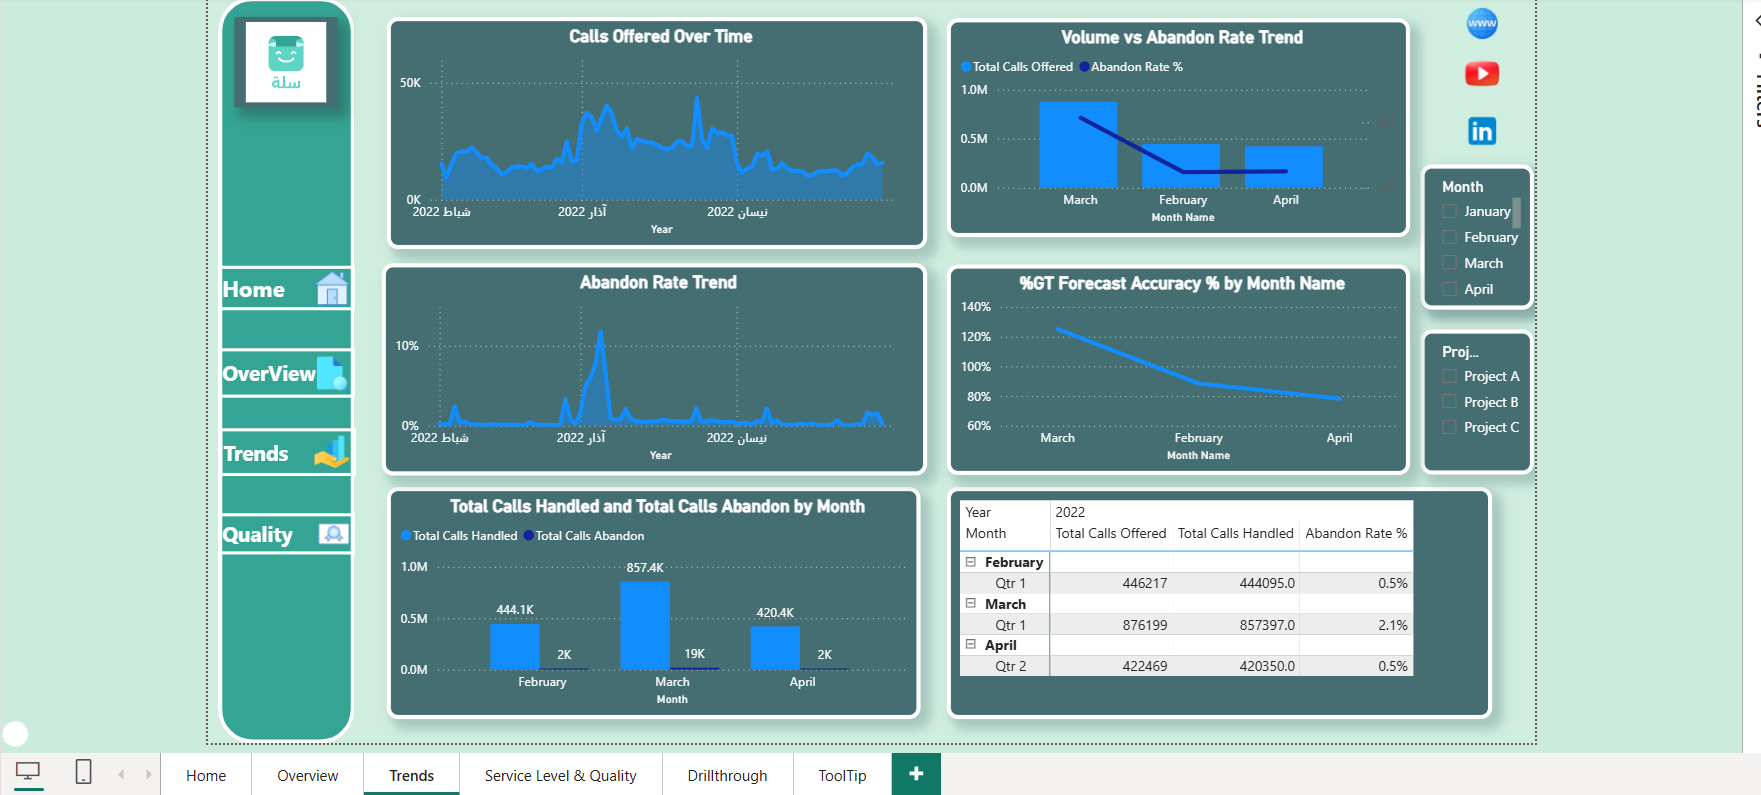

What the dashboard file says about the page in this screenshot:
{"tool":"powerbi","page":{"name":"Trends","canvas":[1280,720],"ordinal":2},"visuals":[{"type":"shape","box":[9.5,0,132,720.5],"z":0},{"type":"image","box":[25.4,19.1,100.2,87.5],"z":1000},{"type":"actionButton","box":[9.5,259.3,132,42.9],"z":2000},{"type":"actionButton","box":[9.5,338.8,132,47.7],"z":3000},{"type":"actionButton","box":[11.1,416.7,132,46.1],"z":4000},{"type":"actionButton","box":[9.5,497.9,132,39.8],"z":5000},{"type":"actionButton","box":[1199.3,52,61.8,43.9],"z":8000},{"type":"actionButton","box":[1199.3,3.3,61.8,43.9],"z":9000},{"type":"actionButton","box":[1199.3,107.3,61.8,43.9],"z":10000},{"type":"areaChart","title":"Calls Offered Over Time","fields":{"Y":["Sallah Project.Total Calls Offered"],"Category":["Sallah Project.Date.Variation.Date Hierarchy.Year","Sallah Project.Date.Variation.Date Hierarchy.Quarter","Sallah Project.Date.Variation.Date Hierarchy.Month","Sallah Project.Date.Variation.Date Hierarchy.Day"]},"box":[172.3,19.5,521.6,224.3],"z":11000},{"type":"clusteredColumnChart","fields":{"Category":["Sallah Project.Date.Variation.Date Hierarchy.Month"],"Y":["Sallah Project.Total Calls Handled","Sallah Project.Total Calls Abandon"]},"box":[172.3,472.9,515.1,224.3],"z":12000},{"type":"pivotTable","fields":{"Rows":["Sallah Project.Date.Variation.Date Hierarchy.Month","Sallah Project.Date.Variation.Date Hierarchy.Quarter"],"Columns":["Sallah Project.Date.Variation.Date Hierarchy.Year"],"Values":["Sallah Project.Total Calls Offered","Sallah Project.Total Calls Handled","Sallah Project.Abandon Rate %"]},"box":[713.4,472.9,526.5,224.3],"z":13000},{"type":"areaChart","title":"Abandon Rate Trend","fields":{"Y":["Sallah Project.Abandon Rate %"],"Category":["Sallah Project.Date.Variation.Date Hierarchy.Year","Sallah Project.Date.Variation.Date Hierarchy.Quarter","Sallah Project.Date.Variation.Date Hierarchy.Month","Sallah Project.Date.Variation.Date Hierarchy.Day"]},"box":[167.4,256.8,526.5,204.8],"z":14000},{"type":"slicer","fields":{"Values":["Sallah Project.Date.Variation.Date Hierarchy.Year"]},"box":[1170.7,162.2,109.8,140],"z":15000},{"type":"slicer","fields":{"Values":["Sallah Project.Date.Variation.Date Hierarchy.Month"]},"box":[1170.2,162.2,109.8,140],"z":16000},{"type":"slicer","fields":{"Values":["Sallah Project.Project"]},"box":[1170.7,321.3,109.8,140],"z":17000},{"type":"lineStackedColumnComboChart","title":"Volume vs Abandon Rate Trend","fields":{"Category":["Sallah Project.Month Name"],"Y":["Sallah Project.Total Calls Offered"],"Y2":["Sallah Project.Abandon Rate %"]},"box":[712.6,20.7,447,211.6],"z":18000},{"type":"lineChart","fields":{"Category":["Sallah Project.Month Name"],"Y":["Call Handling Status.Forecast Accuracy %"]},"box":[712.6,257.7,447,203.6],"z":19000}]}

Visuals, with their boxes in screenshot pixels (x1, y1, x2, y2):
shape: bbox=[212, 0, 350, 751]
image: bbox=[228, 15, 333, 107]
actionButton: bbox=[212, 267, 350, 312]
actionButton: bbox=[212, 351, 350, 401]
actionButton: bbox=[213, 432, 352, 480]
actionButton: bbox=[212, 517, 350, 559]
actionButton: bbox=[1459, 50, 1524, 96]
actionButton: bbox=[1459, 0, 1524, 45]
actionButton: bbox=[1459, 108, 1524, 154]
"Calls Offered Over Time" areaChart: bbox=[382, 16, 929, 251]
clusteredColumnChart - Sallah Project.Date.Variation.Date Hierarchy.Month x Sallah Project.Total Calls Handled: bbox=[382, 491, 922, 726]
pivotTable - Sallah Project.Date.Variation.Date Hierarchy.Month x Sallah Project.Date.Variation.Date Hierarchy.Quarter: bbox=[950, 491, 1501, 726]
"Abandon Rate Trend" areaChart: bbox=[377, 265, 929, 479]
slicer - Sallah Project.Date.Variation.Date Hierarchy.Year: bbox=[1429, 165, 1544, 312]
slicer - Sallah Project.Date.Variation.Date Hierarchy.Month: bbox=[1428, 165, 1543, 312]
slicer - Sallah Project.Project: bbox=[1429, 332, 1544, 479]
"Volume vs Abandon Rate Trend" lineStackedColumnComboChart: bbox=[949, 17, 1417, 239]
lineChart - Sallah Project.Month Name x Call Handling Status.Forecast Accuracy %: bbox=[949, 266, 1417, 479]
